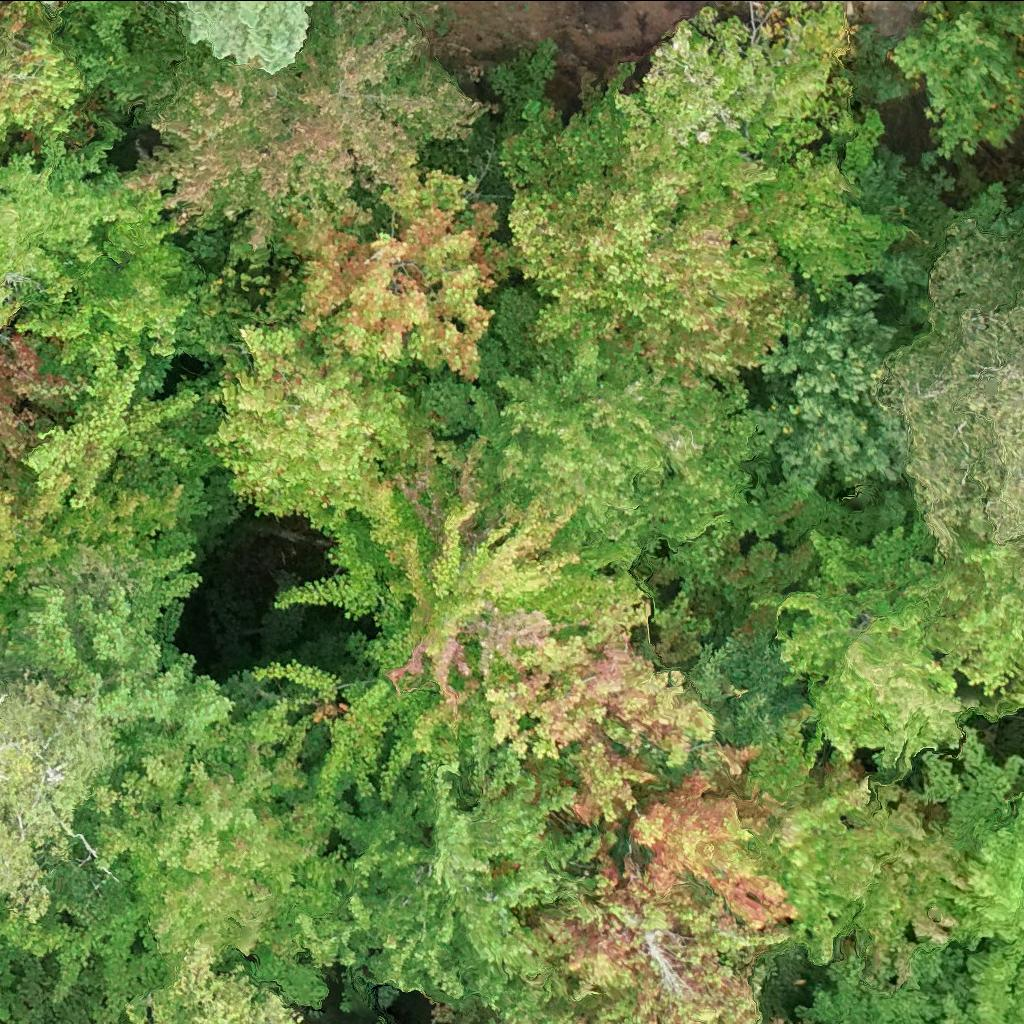crown: (252, 434, 653, 805), (493, 0, 914, 299), (424, 288, 805, 584), (125, 0, 490, 273), (52, 680, 344, 1008), (293, 745, 606, 1018), (508, 121, 810, 387), (748, 706, 968, 993), (267, 151, 516, 383), (485, 600, 710, 826), (511, 849, 794, 1023), (0, 550, 200, 785), (885, 219, 1023, 555), (204, 325, 437, 523), (12, 312, 198, 557), (778, 526, 963, 766), (625, 735, 801, 926), (8, 194, 202, 355), (920, 727, 1023, 1010), (0, 141, 155, 327), (0, 679, 114, 919), (903, 508, 1023, 718), (888, 0, 1023, 157), (794, 937, 1023, 1023), (126, 943, 298, 1023), (0, 0, 86, 148), (0, 474, 73, 637), (430, 974, 629, 1023), (176, 0, 308, 68), (0, 337, 48, 458)
